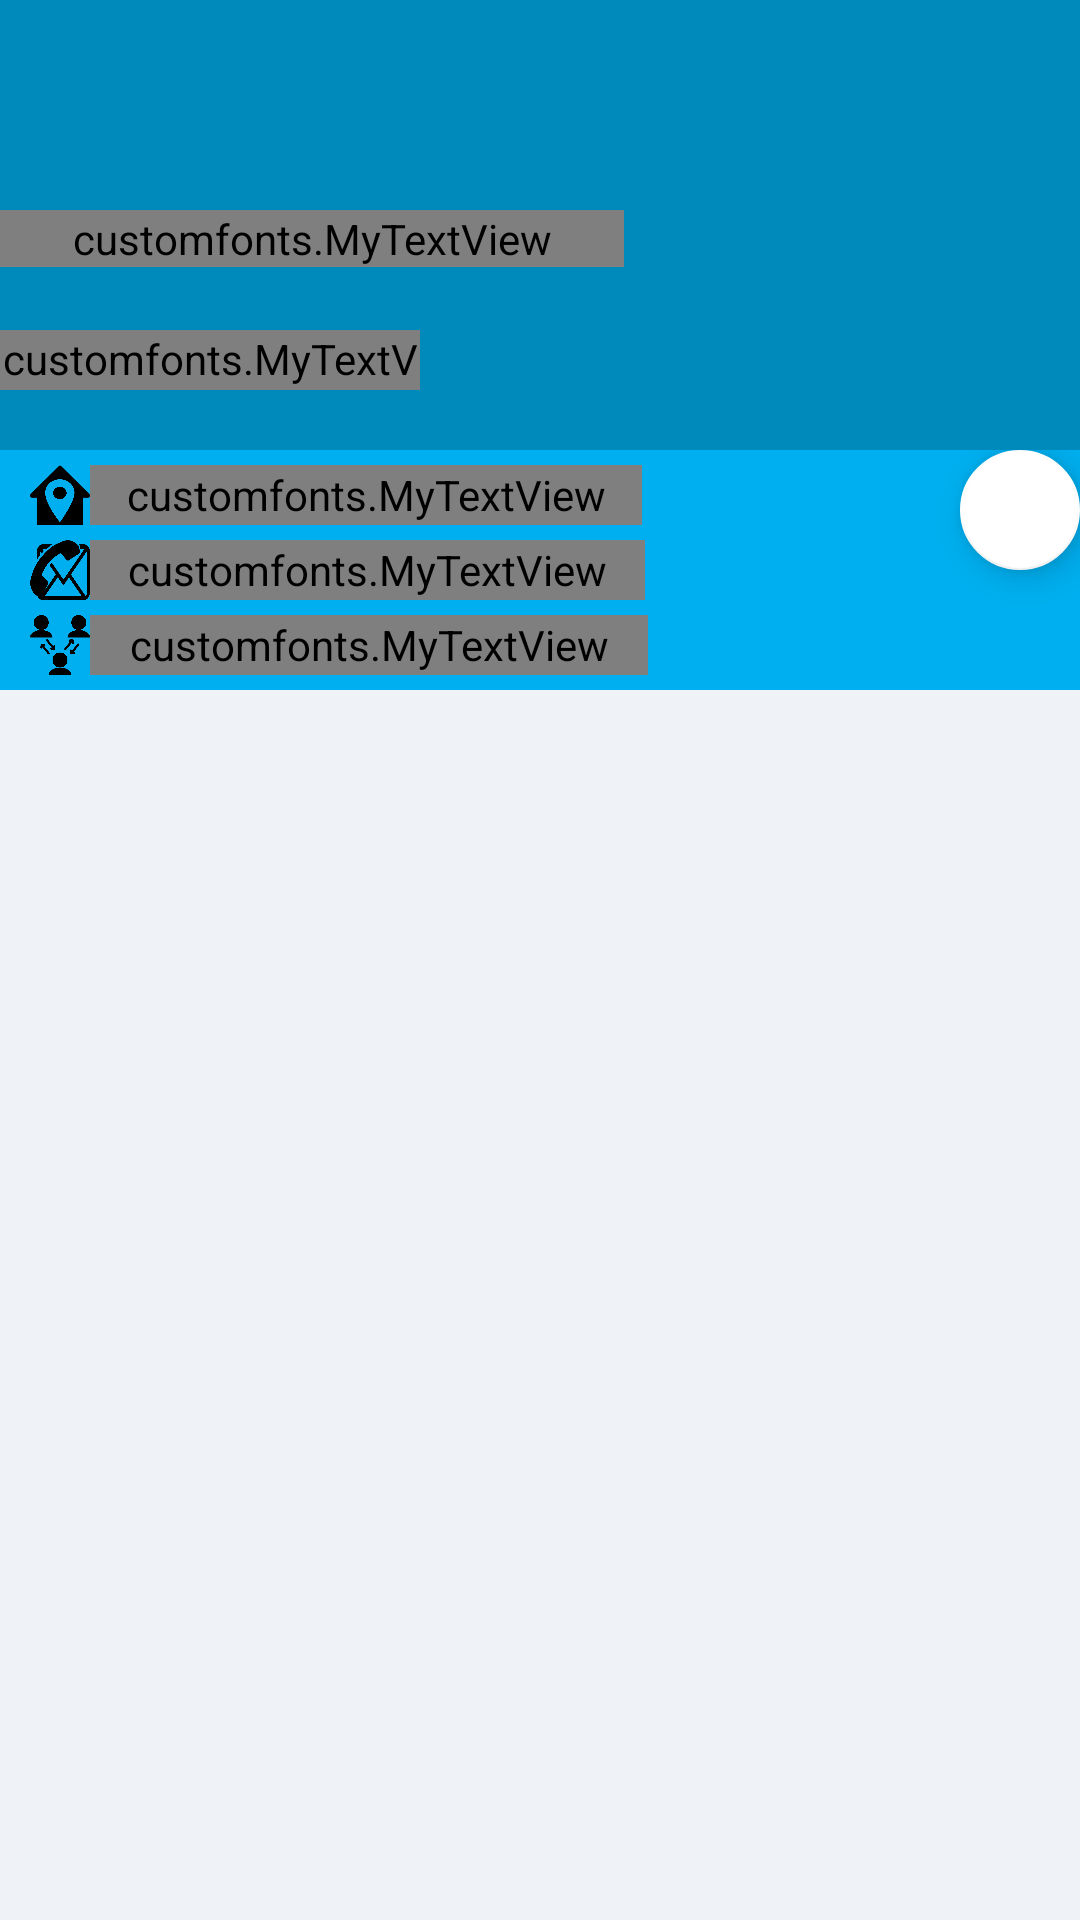

Named icons in this screenshot (1080×1920) and their centers, (x=x, y=y):
address: (x=60, y=495)
contact: (x=60, y=570)
sosmed: (x=54, y=645)
